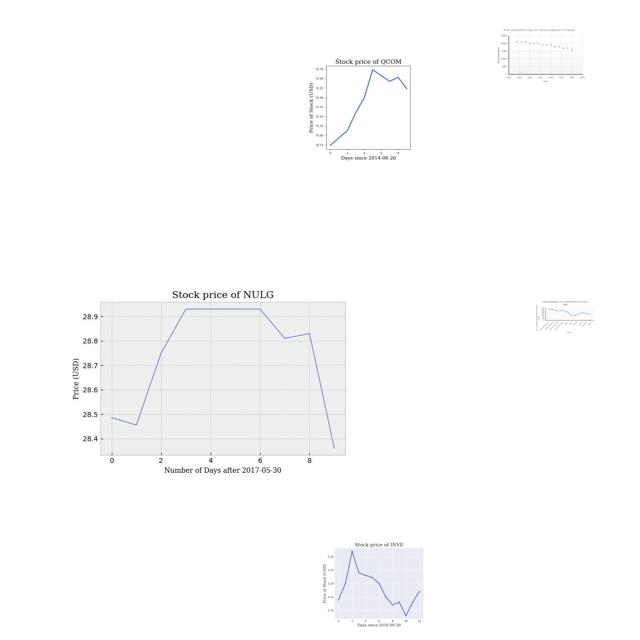Graph: (61, 259, 377, 496), (288, 53, 445, 161), (316, 537, 439, 629), (496, 28, 585, 83), (535, 299, 596, 337)
